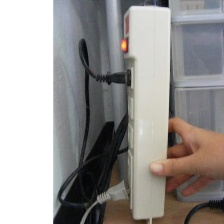three_eye_plug: (119, 2, 176, 223)
